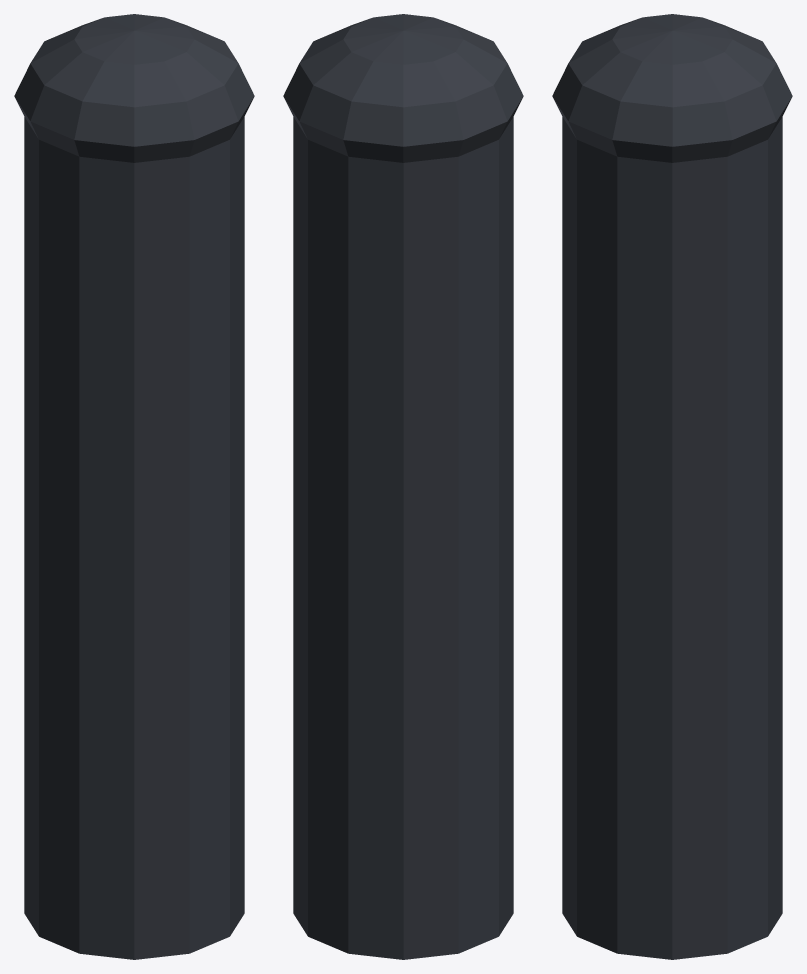
Rendered from bollard.fbx.
The picture shows the model from 3 angles, left to right: view 1: azimuth 30°, elevation 25°; view 2: azimuth 150°, elevation 25°; view 3: azimuth 270°, elevation 25°; orthographic projection.
Parts seen in each view (by area): view 1: bollard; view 2: bollard; view 3: bollard.
Part boxes in pixels (x1,y1,x2,y2): bollard: (14,14,254,959); bollard: (283,14,523,959); bollard: (552,14,792,959).
Bounding box in the file's own units: 0.24 × 0.972 × 0.24.
Materials: 1 (1 with a texture image).
